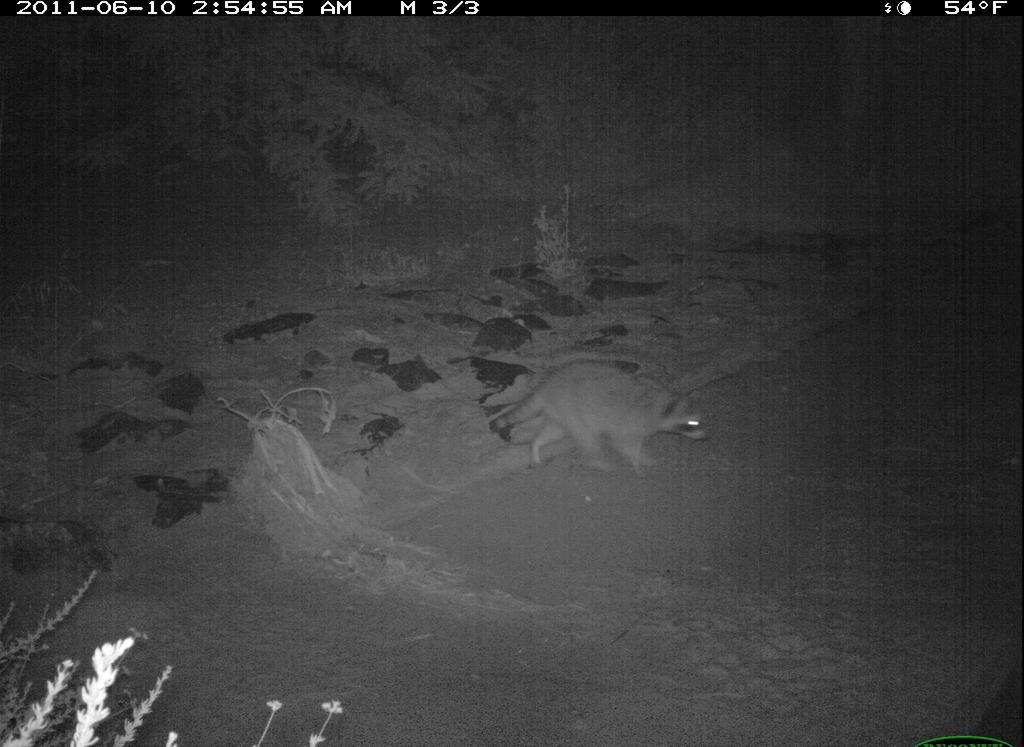raccoon: (486, 350, 720, 483)
